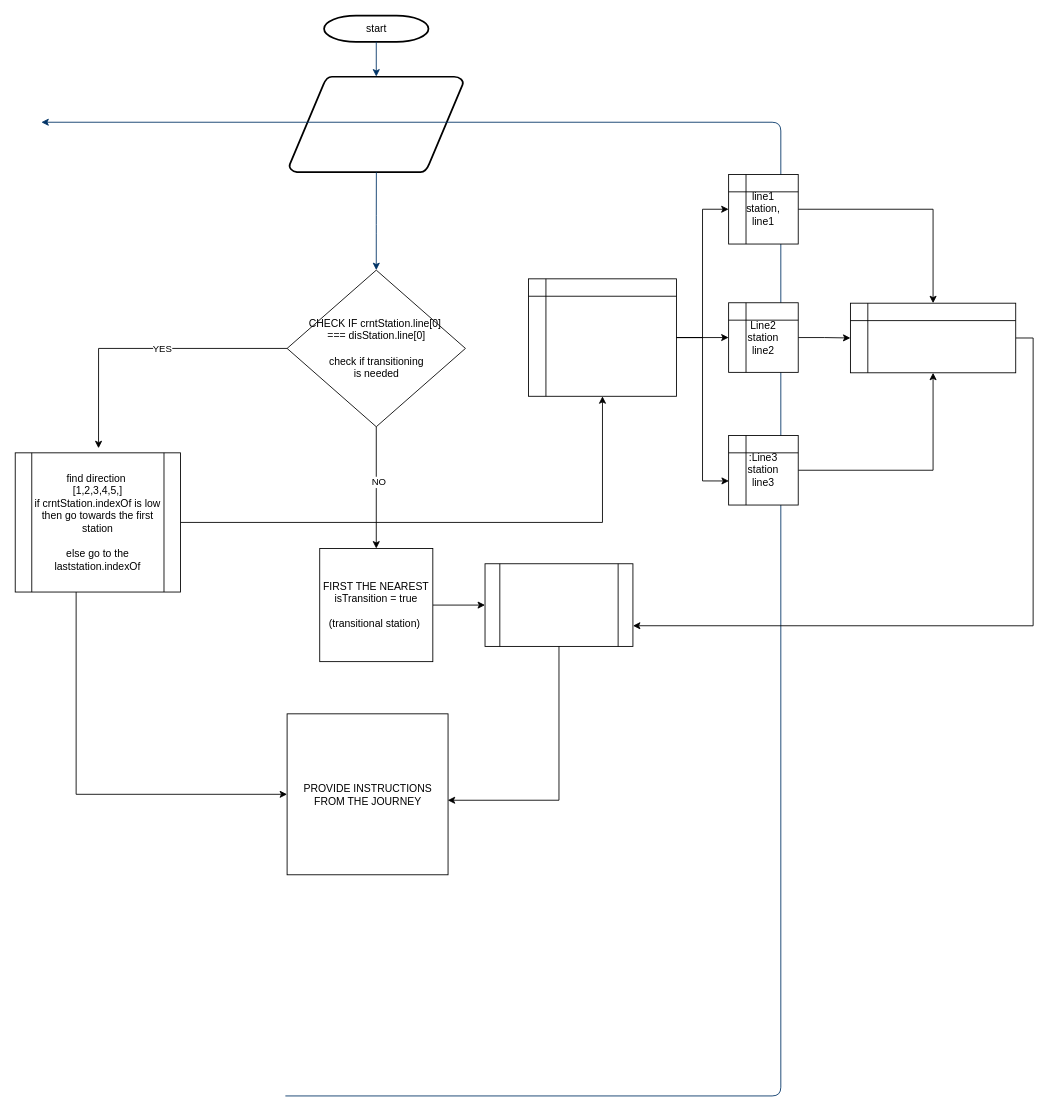
This 1055x1119 diagram has some shape labels left out. Here are the shapes that lost their labels. From the top down, the centre of each, then its label:
the point at 376,124: INPUT CURRENTstatino INPUT DISTANAstation
the point at 602,337: CONST:Stations {} Stations list
the point at 933,337: isTransition = true line[1,2,3]
the point at 558,604: check if transitional check if same line as either crnt or distanation
